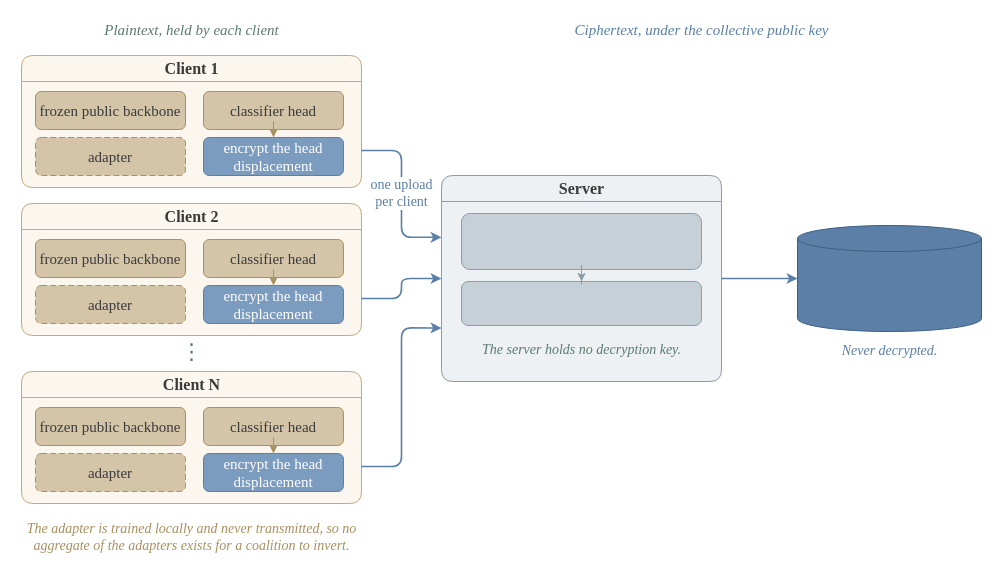
Image size: 1008x576. Some labels were removed from this diagram. The centre of each missing label's shape, as x and y in pixels:
"division by the class totals, evaluated under encryption" belongs at pixel 581 303.
"shared classifier head, in ciphertext" belongs at pixel 889 278.
"weighted sum of the encrypted displacements, public scalars only" belongs at pixel 581 241.
